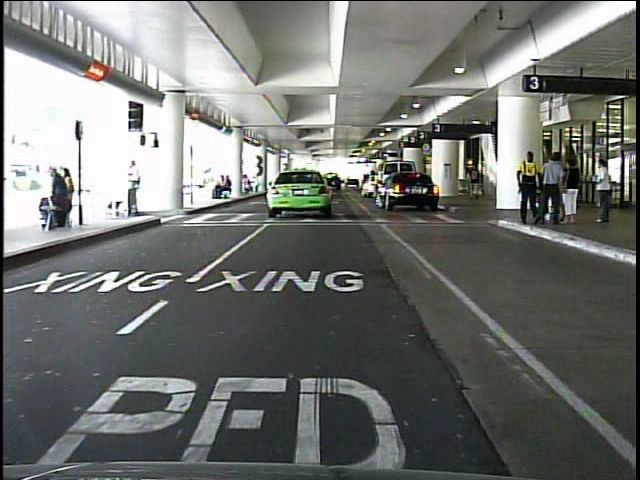person: (510, 148, 545, 233), (591, 154, 622, 226), (116, 158, 149, 224), (536, 149, 563, 227), (562, 156, 579, 229), (465, 159, 486, 203)
